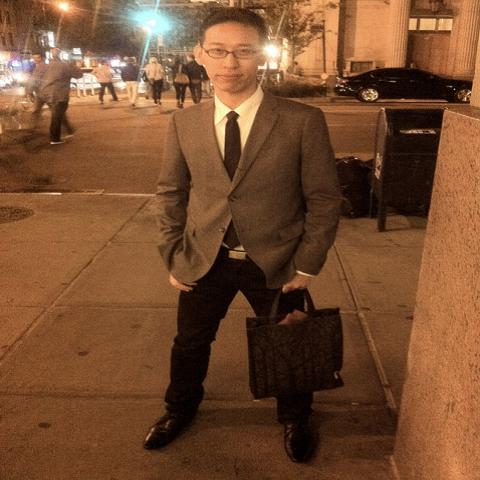car: (334, 66, 476, 98), (0, 75, 17, 88)
